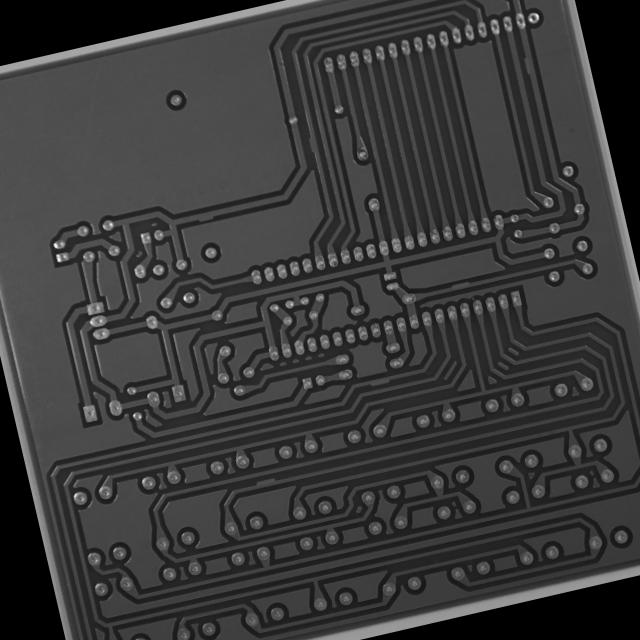spur: (248, 471, 280, 494), (364, 372, 394, 392), (191, 207, 218, 226), (519, 52, 537, 78), (302, 129, 320, 154), (448, 276, 474, 292)
